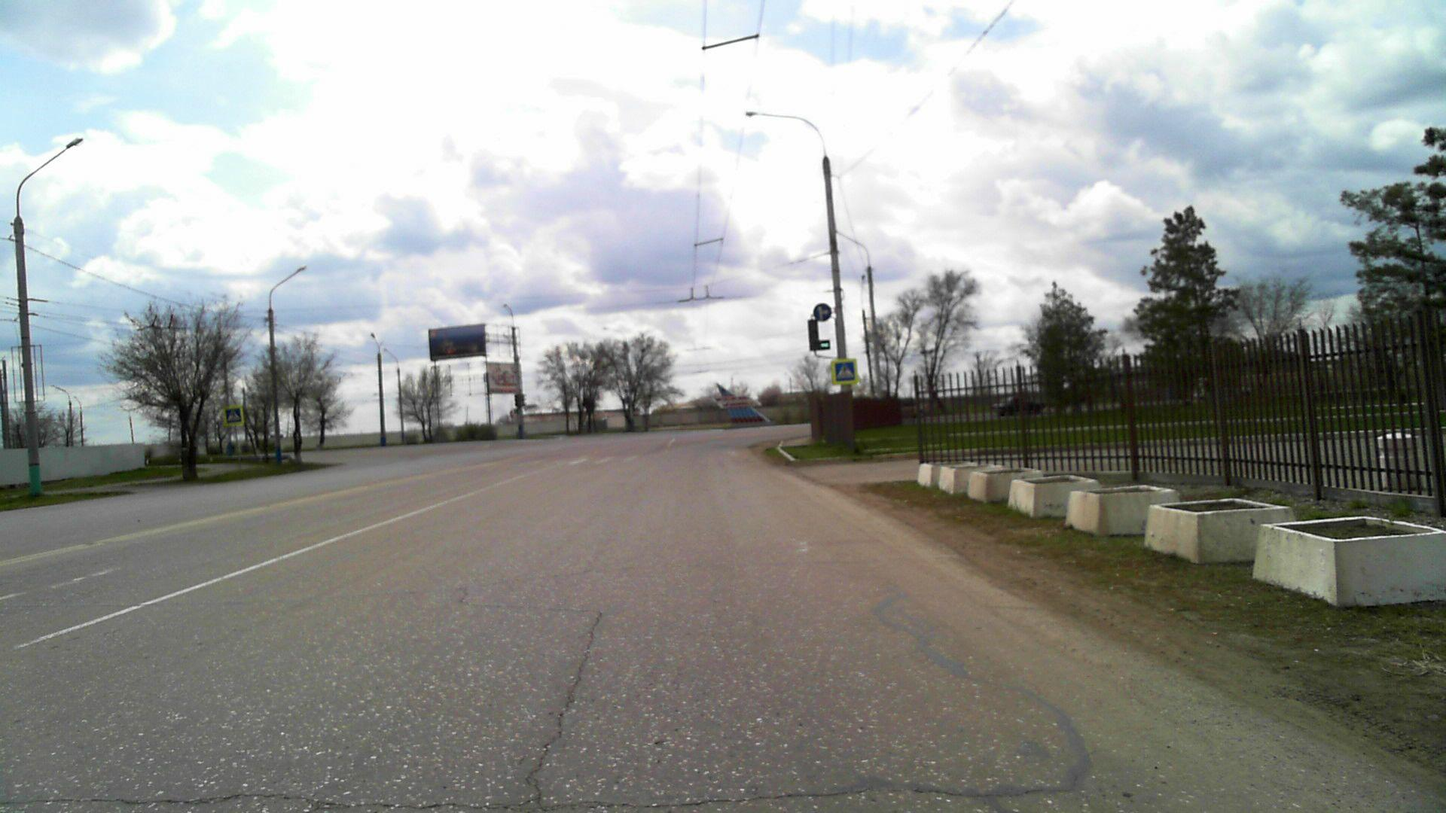road_sign: (832, 357, 858, 383), (815, 302, 832, 322)
